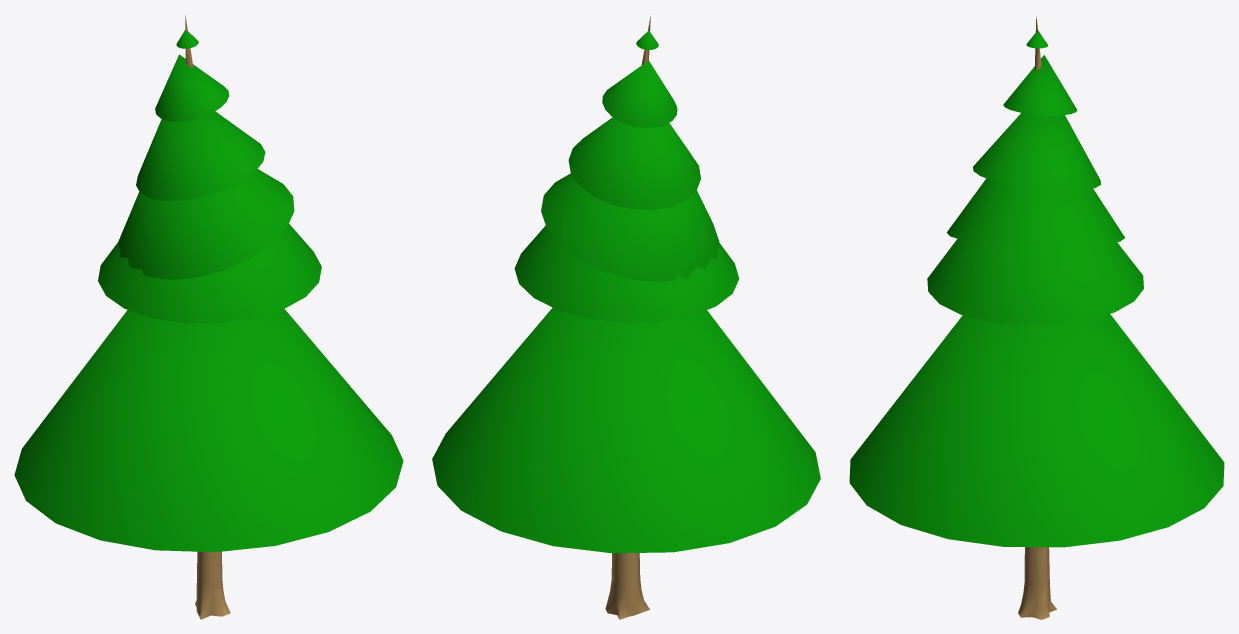
Rendered from back_ground_pine05.fbx.
3 renders of one model, left to right at view 1: azimuth 30°, elevation 25°; view 2: azimuth 150°, elevation 25°; view 3: azimuth 270°, elevation 25°, orthographic. The views are drawn at different scales.
Parts seen in each view (by area): view 1: back_ground_pine05_trunk; view 2: back_ground_pine05_trunk; view 3: back_ground_pine05_trunk.
Part boxes in pixels (x1=…): back_ground_pine05_trunk: x1=14, y1=15, x2=403, y2=619; back_ground_pine05_trunk: x1=432, y1=14, x2=820, y2=619; back_ground_pine05_trunk: x1=849, y1=16, x2=1224, y2=619.
Bounding box in the file's own units: 1839 × 3172 × 1840.
